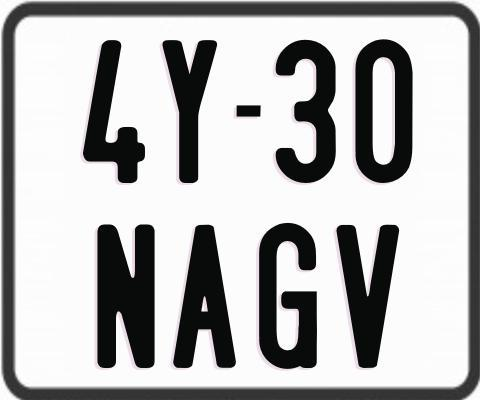0: (354, 37, 413, 184)
3: (273, 40, 334, 186)
4: (81, 38, 148, 185)
A: (173, 223, 240, 367)
G: (258, 220, 320, 369)
N: (95, 222, 157, 371)
V: (334, 225, 403, 372)
Y: (161, 39, 220, 185)
